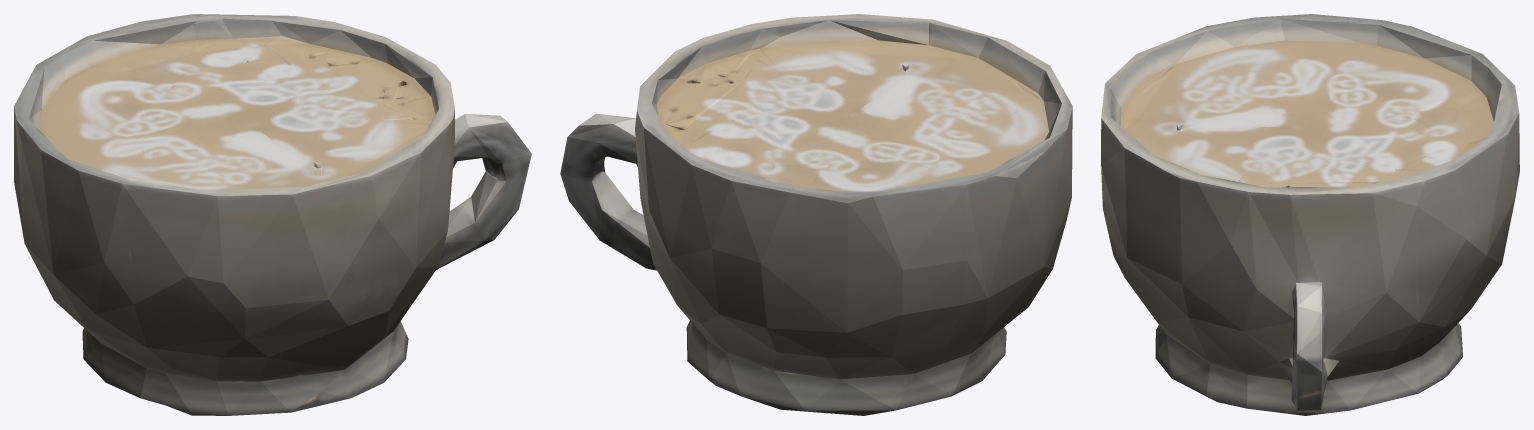
Rendered from cafe.glb.
3 renders of one model, left to right at view 1: azimuth 30°, elevation 25°; view 2: azimuth 150°, elevation 25°; view 3: azimuth 270°, elevation 25°, orthographic. The views are drawn at different scales.
Visible parts, largest first — view 1: world; view 2: world; view 3: world.
Part boxes in pixels (x1,y1,x2,y2): world: [14, 14, 531, 415]; world: [560, 14, 1072, 415]; world: [1101, 14, 1519, 415].
Size of the model in its own units: 0.9847 by 0.4894 by 0.7659.
Materials: 1 (1 with a texture image).
